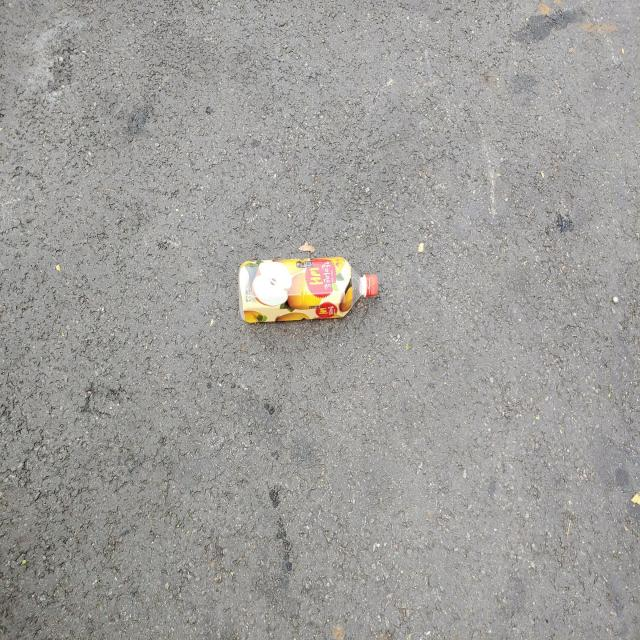plastic: (238, 256, 378, 323)
